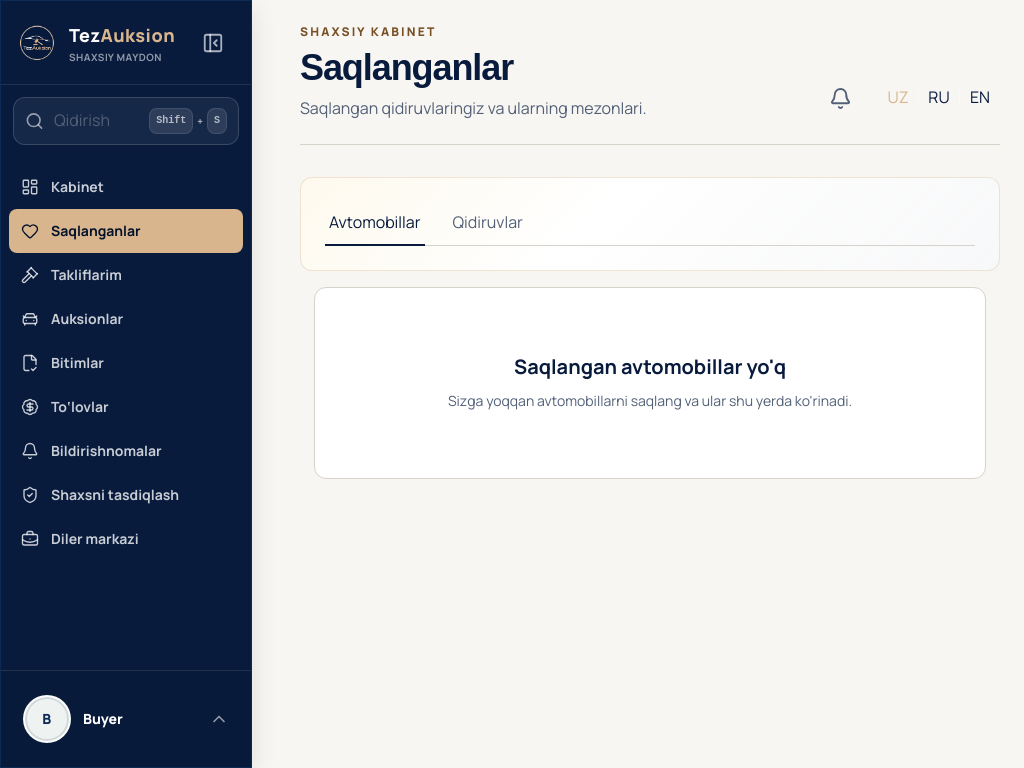
it: CabinetRouter access, routes, and production integrity › renders saved searches from the connected mine endpoint
This screenshot has width=1024, height=768.
Click the tab "Qidiruvlar" at (488, 224), box [448, 202, 527, 246]
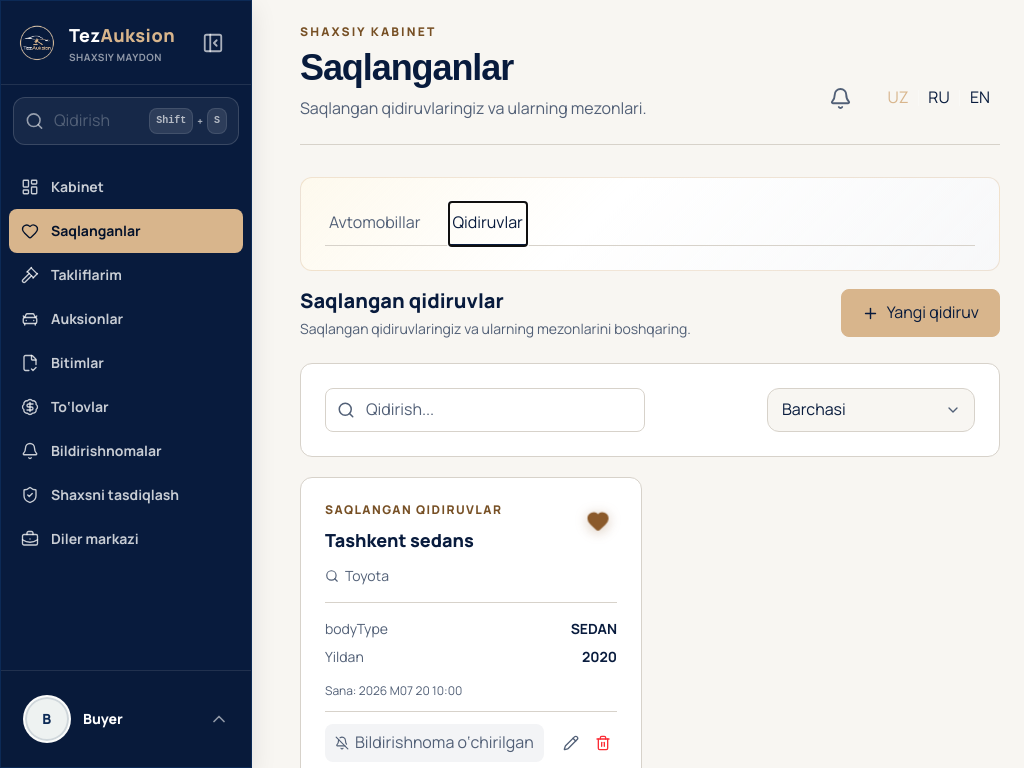
Now the heading "Tashkent sedans" is shown, box [325, 528, 474, 552]
Now the text "Toyota" is shown, box [325, 566, 389, 585]
Now the text "SEDAN" is shown, box [571, 619, 617, 639]
